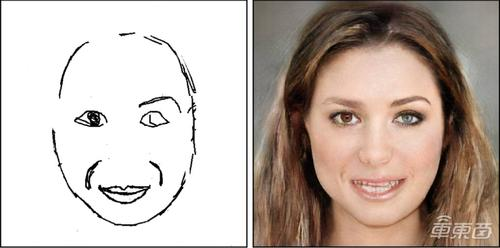nomask: (303, 32, 465, 232)
